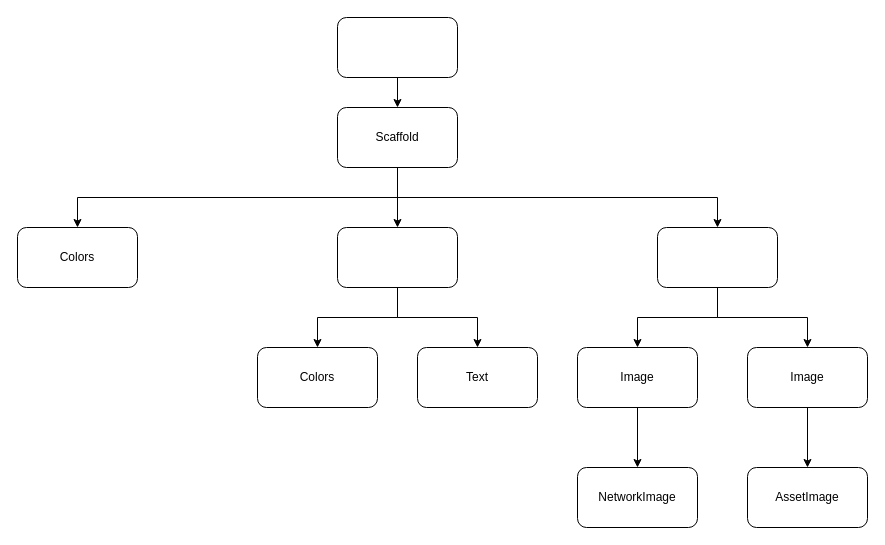
Some shapes in this 885 by 545 pixel diagram are drawn without their labels. Here are the shapes that lost their labels. From the top down, the centre of each, then its label:
[397,47]: MaterialApp
[397,257]: AppBar
[717,257]: Column
